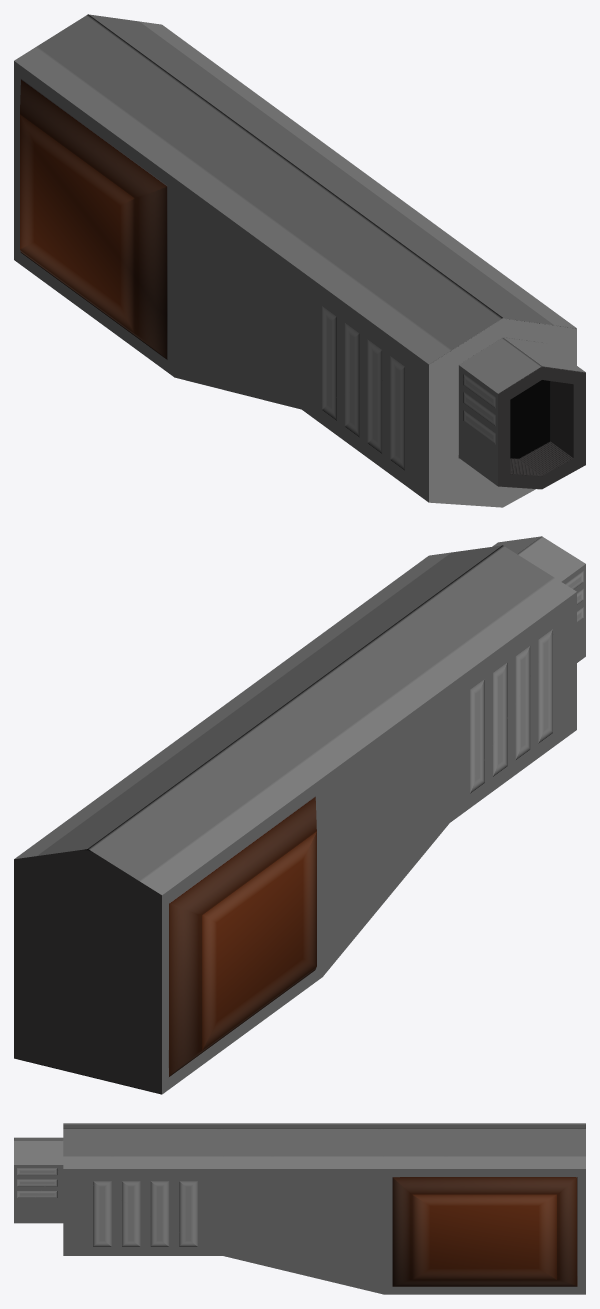
Rendered from Modern_gunish.FBX.
3 renders of one model, top to bottom at view 1: azimuth 30°, elevation 25°; view 2: azimuth 150°, elevation 25°; view 3: azimuth 270°, elevation 25°, orthographic. The views are drawn at different scales.
Visible parts, largest first — view 1: Box001; view 2: Box001; view 3: Box001.
Boxes of the visible parts, x1,y1,x2,y2 form: Box001: (14,14,585,507); Box001: (14,536,585,1094); Box001: (14,1123,585,1294).
Bounding box in the file's own units: 26.99 × 32.13 × 116.
